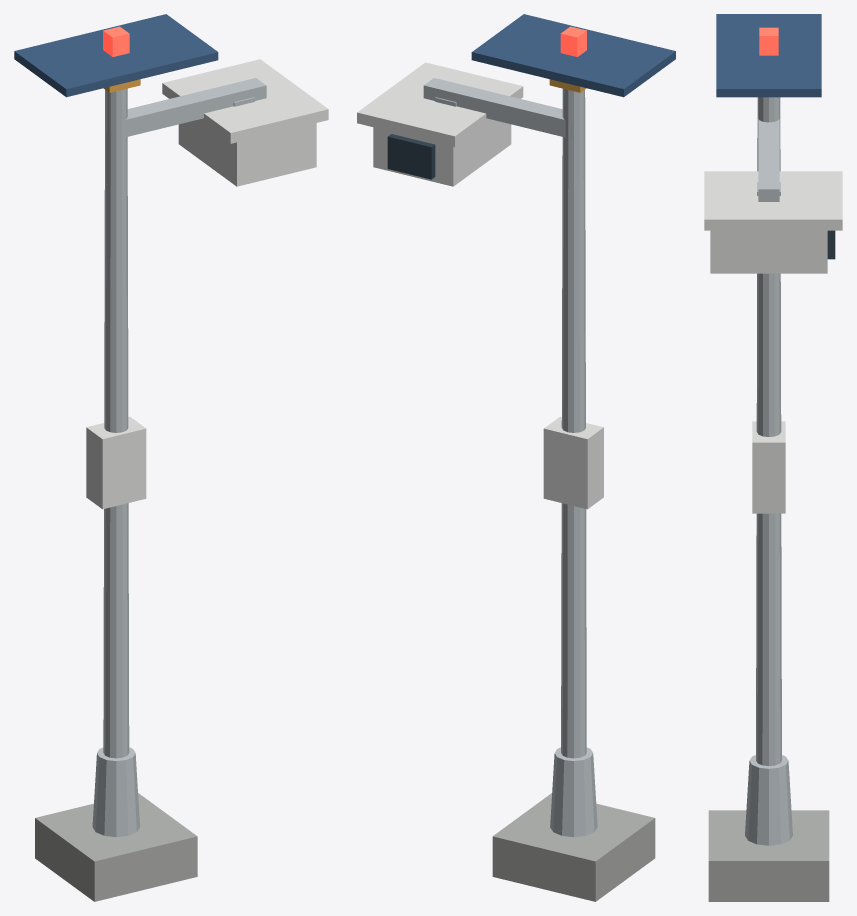
The model's file is signpost.glb.
3 renders of one model, left to right at view 1: azimuth 30°, elevation 25°; view 2: azimuth 150°, elevation 25°; view 3: azimuth 270°, elevation 25°, orthographic.
Visible parts, largest first — view 1: 监控立杆; view 2: 监控立杆; view 3: 监控立杆.
Boxes of the visible parts, x1,y1,x2,y2 form: 监控立杆: (14, 14, 328, 901); 监控立杆: (357, 14, 675, 901); 监控立杆: (704, 14, 842, 901).
Bounding box in the file's own units: 1.99 × 6.2 × 0.92.
